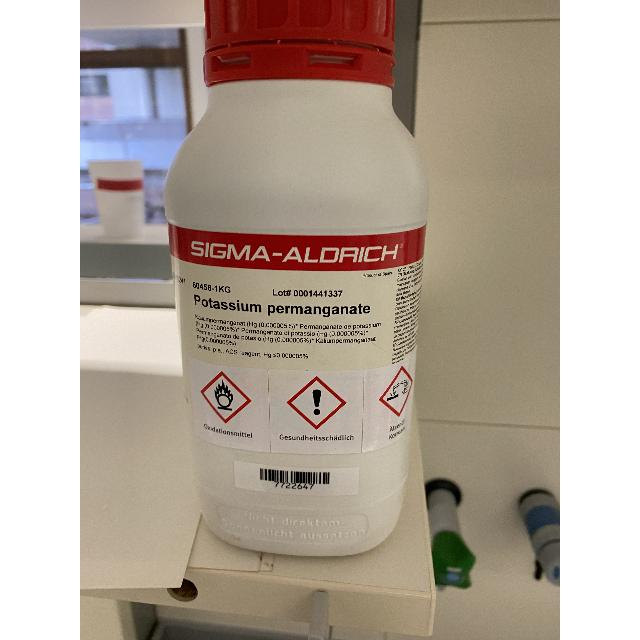corrosive: (387, 380, 409, 400)
health-ozone layer hazard: (312, 390, 322, 414)
oxidising: (214, 380, 233, 410)
